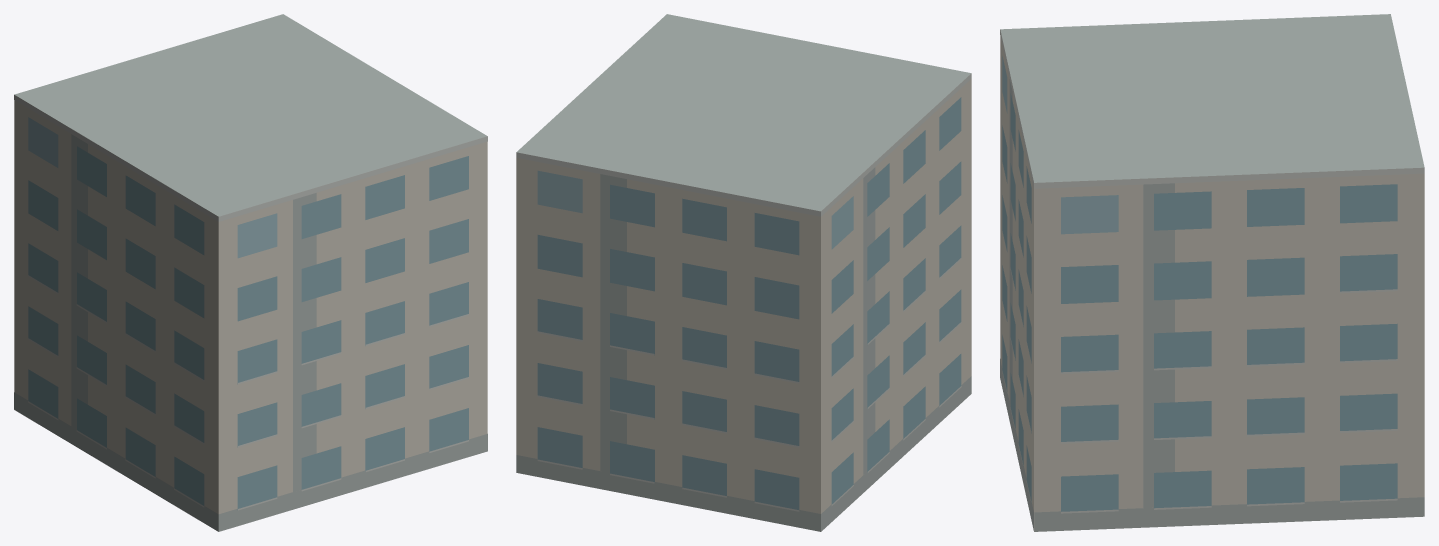
The model's file is survey-upis-32738172.glb.
3 views of the same model, side by side, from view 1: azimuth 30°, elevation 25°; view 2: azimuth 150°, elevation 25°; view 3: azimuth 270°, elevation 25° (orthographic). The views are drawn at different scales.
Visible parts, largest first — view 1: survey-upis-32738172.tmp; view 2: survey-upis-32738172.tmp; view 3: survey-upis-32738172.tmp.
Part boxes in pixels (<box>): survey-upis-32738172.tmp: <box>14,14,487,531</box>; survey-upis-32738172.tmp: <box>516,14,971,531</box>; survey-upis-32738172.tmp: <box>1000,14,1424,531</box>.
Size of the model in its own units: 15.06 by 14.5 by 15.99.
